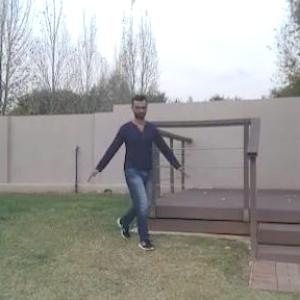land: (84, 89, 188, 268)
